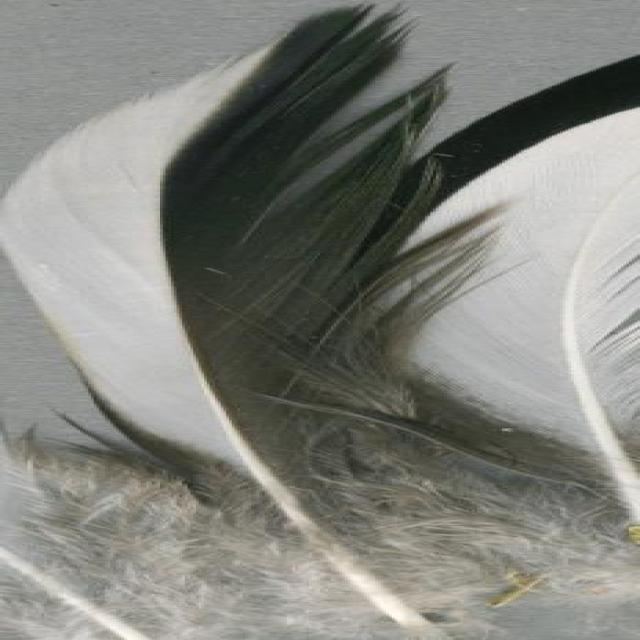feather: (0, 2, 560, 640), (391, 45, 640, 534)
